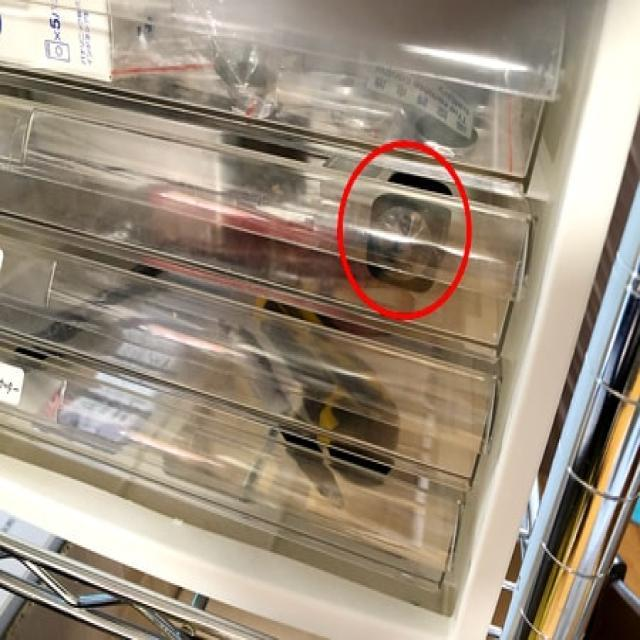hidden camera: (390, 237, 403, 260)
